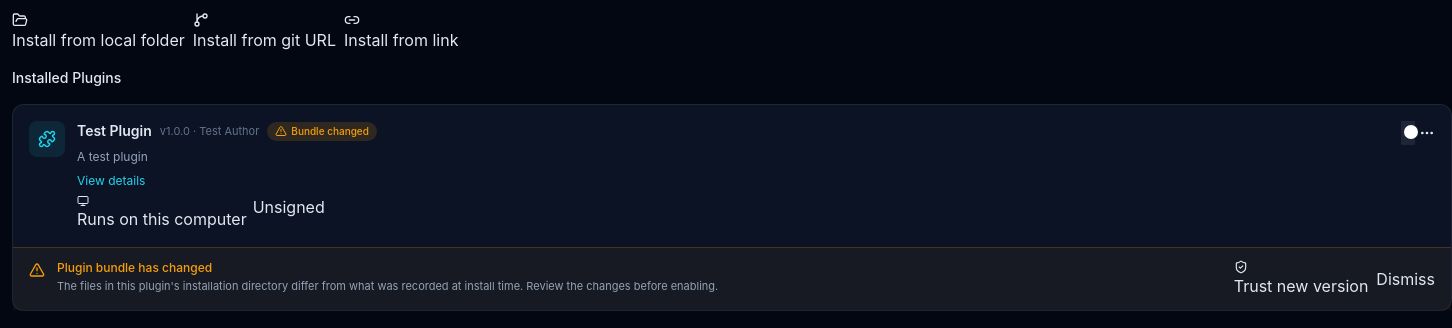
Test: PluginSettingsPage — desktop build (pluginHost: true) › dismissing the changed-bundle warning › shows a dismissed banner again from the Bundle changed badge
The width and height of the screenshot is (1452, 328).
Click the button "Dismiss". click: (1406, 278)
box: [1376,260,1435,298]
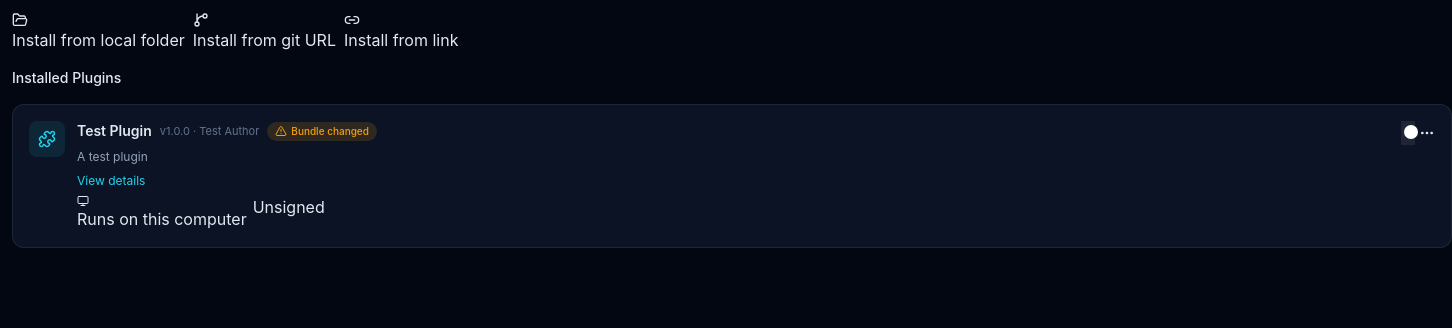
Click the button "Bundle changed". click: (322, 131)
box: [267,122,377,140]
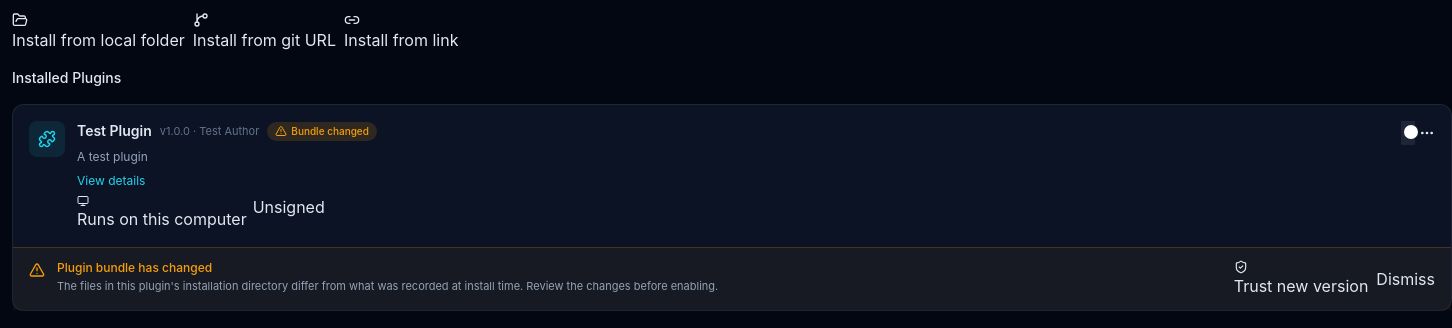
Expected: the text "Plugin bundle has changed" is shown, [57,260,212,274]
Expected: the button "Trust new version" is shown, [1234,260,1368,298]
